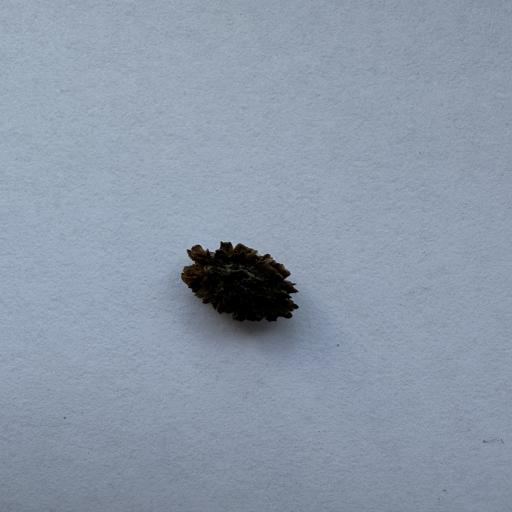papaya_seed: (178, 233, 320, 341)
